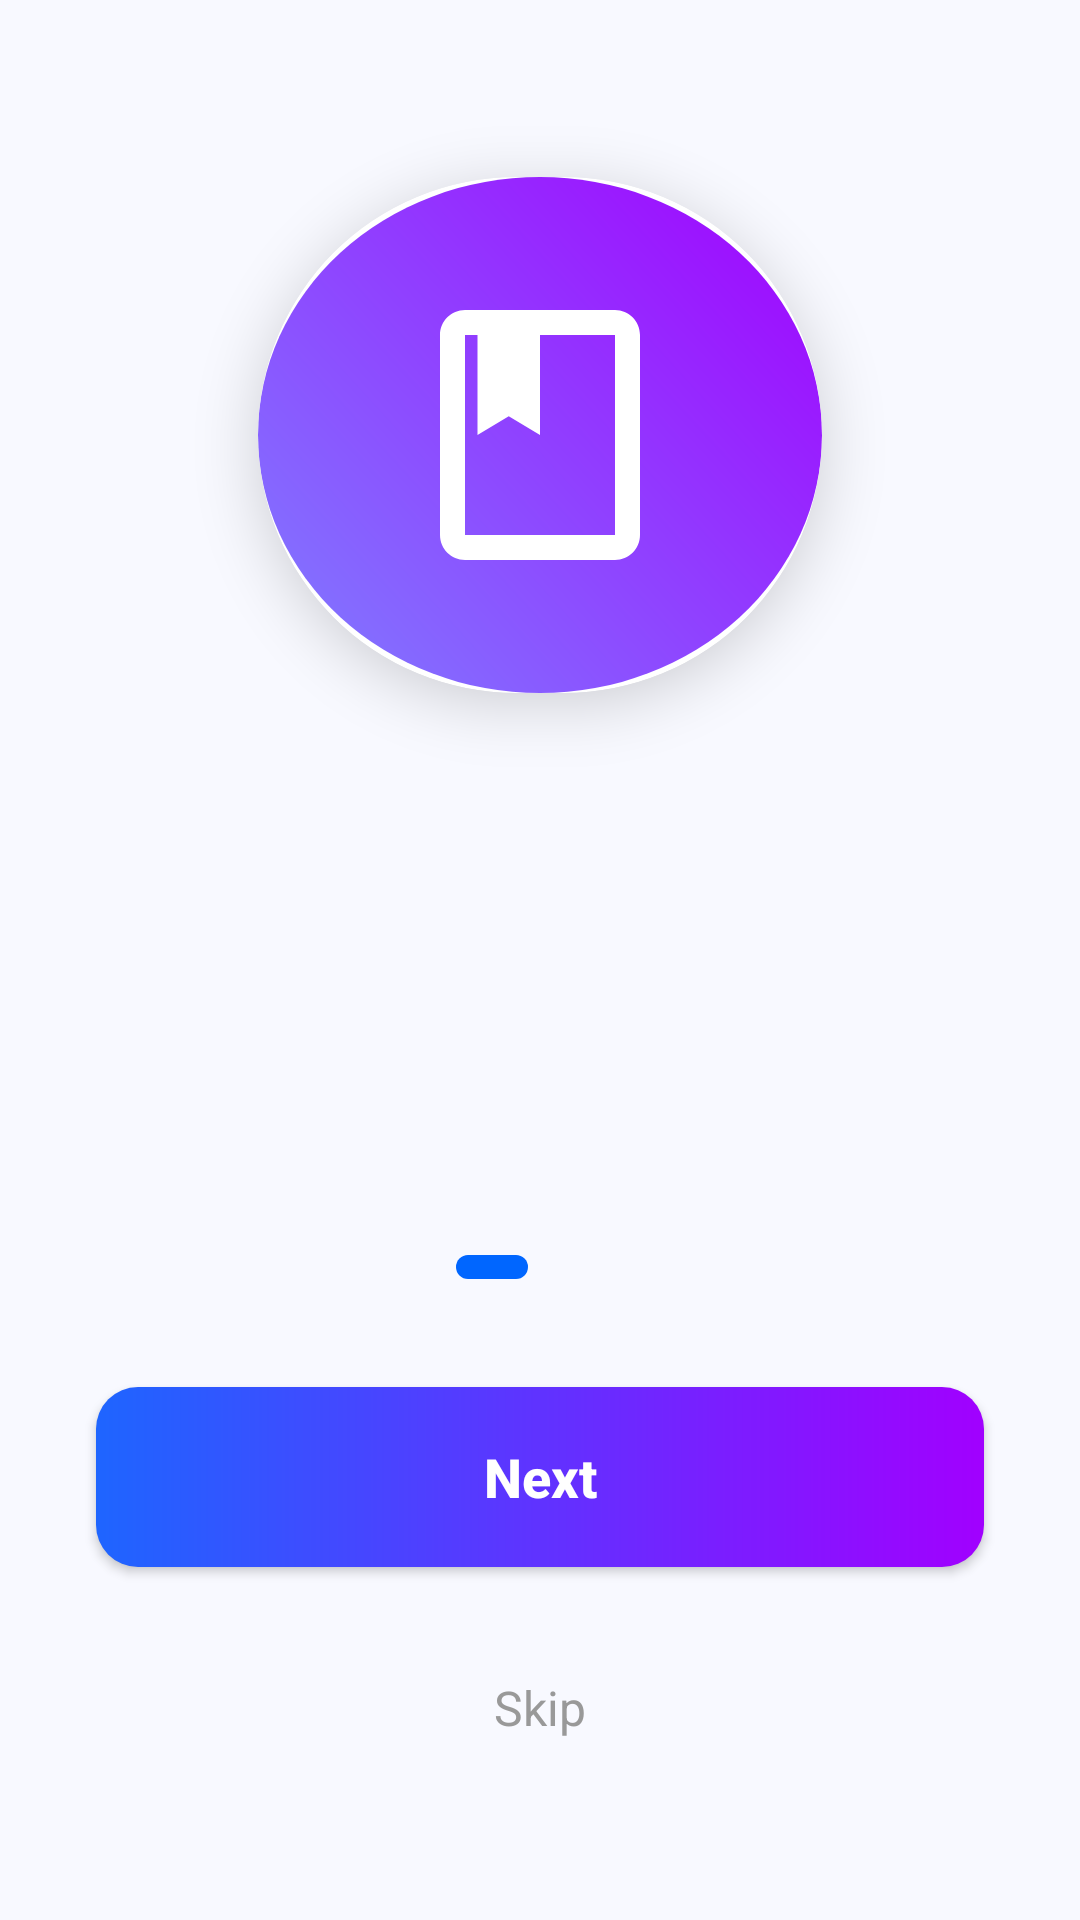

Icons on this 1080 x 1920 Android screen, each with its box as (x1, y1, x2, y2):
book: (440, 285, 690, 560)
